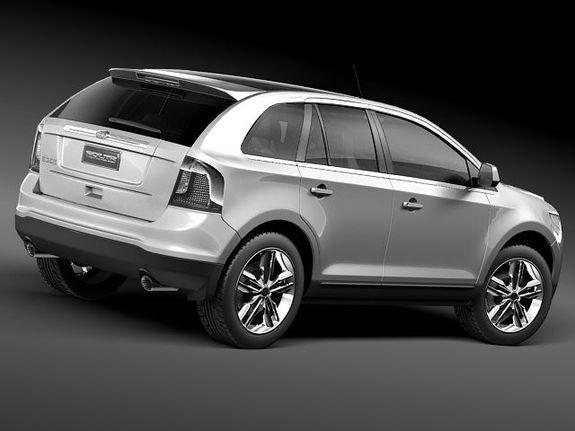car: (14, 68, 566, 345)
